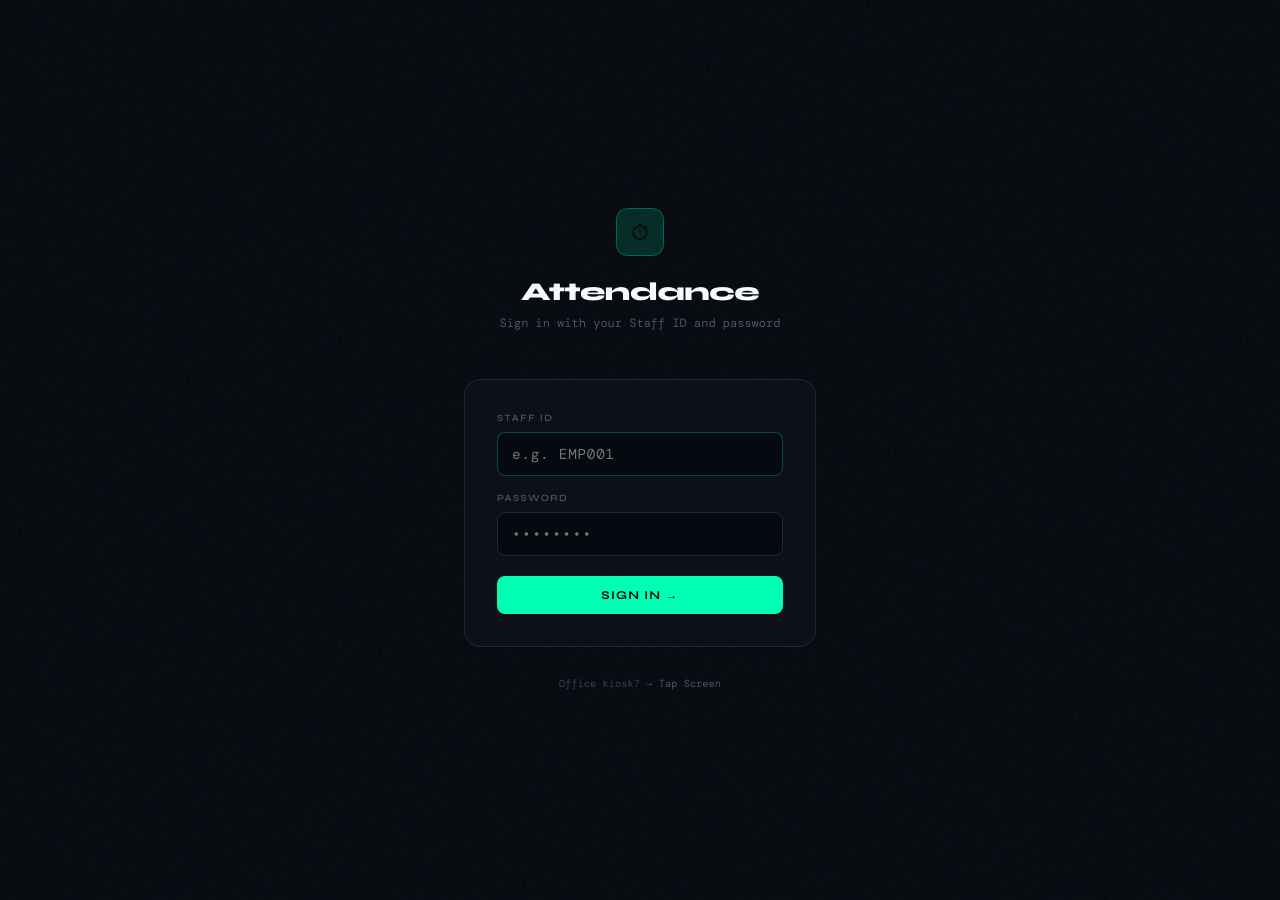
Test: LoginPage › shows validation when the staff ID is missing
This screenshot has width=1280, height=900.
Click the button "Sign In →". click: (640, 595)
box: [497, 576, 783, 614]
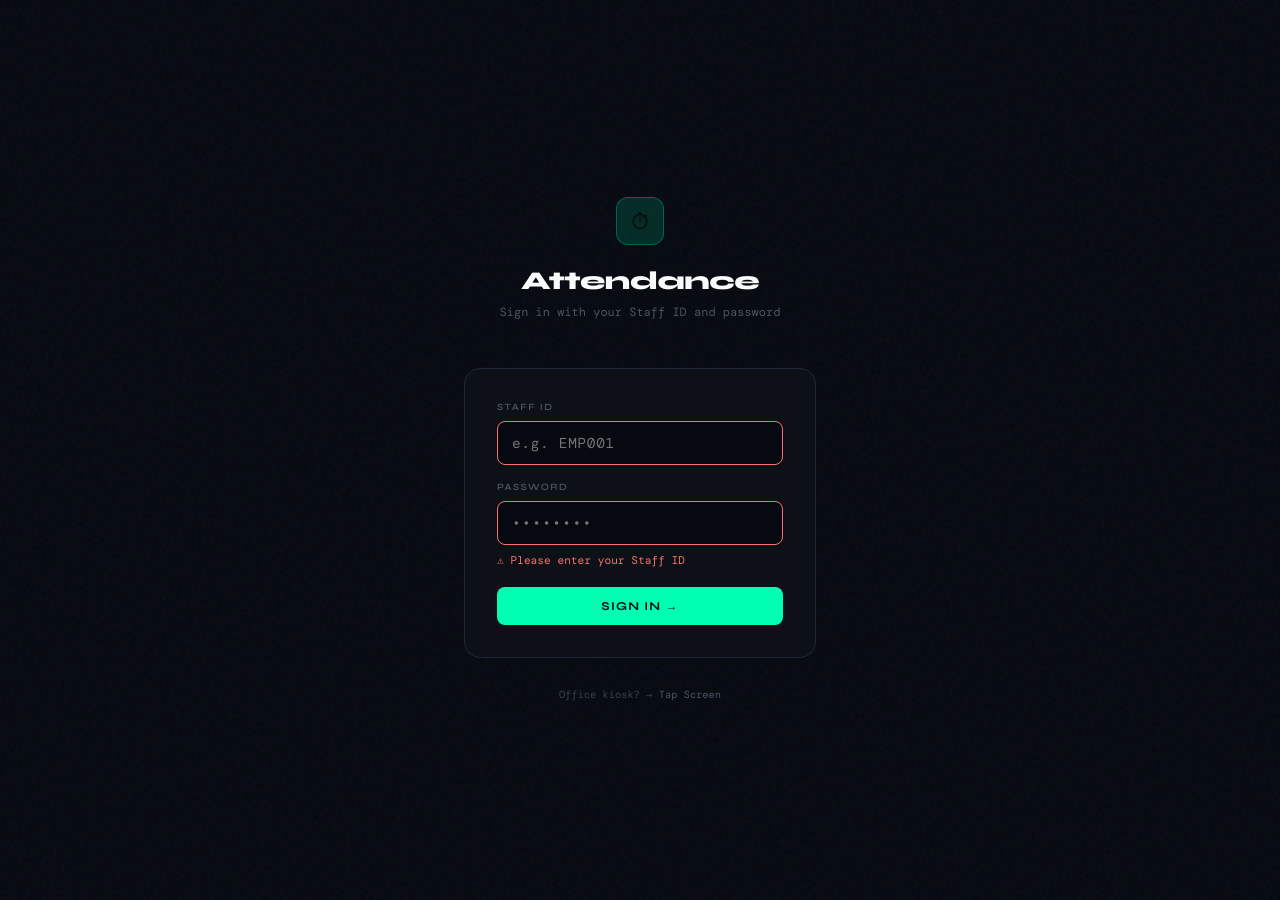
Result: the text "⚠ Please enter your Staff ID" is shown at [497, 553, 685, 567]
